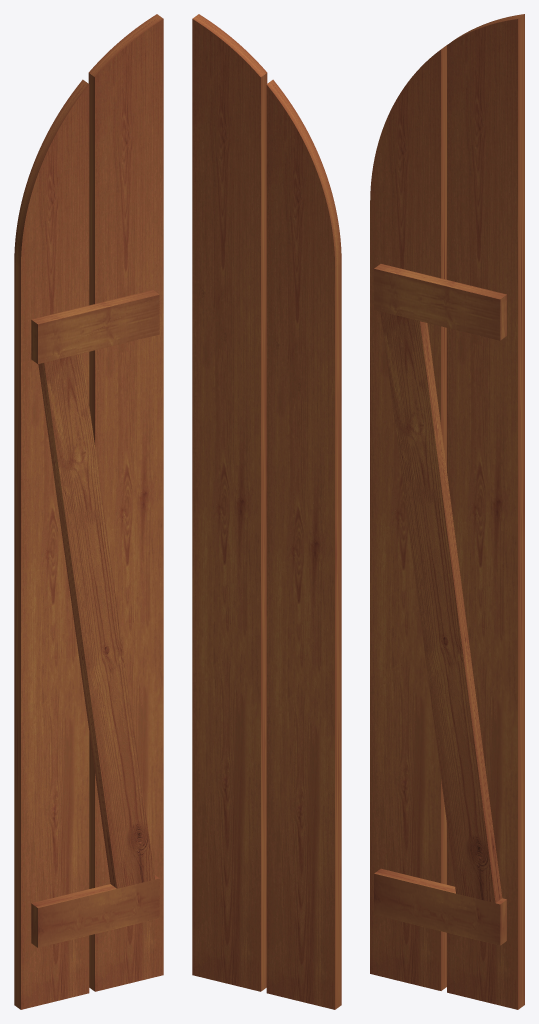
Rendered from ss4_left.obj.
The picture shows the model from 3 angles, left to right: view 1: azimuth 30°, elevation 25°; view 2: azimuth 150°, elevation 25°; view 3: azimuth 330°, elevation 25°; orthographic projection. The views are drawn at different scales.
Visible parts, largest first — view 1: shutter007, shutter006, shutter004, shutter005, shutter002; view 2: shutter006, shutter007; view 3: shutter006, shutter007, shutter004, shutter005, shutter002.
Part boxes in pixels (box(x1,y1,x2,y2)): shutter007: box(14, 79, 89, 1009); shutter006: box(88, 14, 163, 991); shutter004: box(38, 353, 154, 888); shutter005: box(31, 290, 159, 363); shutter002: box(31, 875, 159, 947); shutter006: box(192, 14, 267, 991); shutter007: box(266, 79, 341, 1009); shutter006: box(447, 14, 524, 1009); shutter007: box(370, 45, 446, 990); shutter004: box(380, 311, 502, 903); shutter005: box(374, 264, 506, 340); shutter002: box(374, 868, 506, 945).
Size of the model in its own units: 9.38 by 60 by 1.5.
4 materials, 4 textured.
